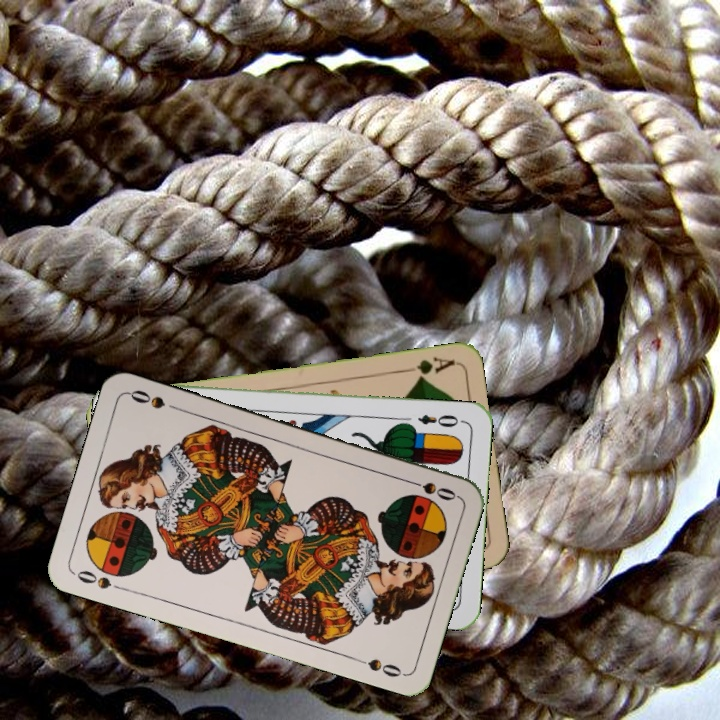EO: (414, 410, 466, 430)
GA: (398, 352, 457, 382)
SO: (402, 475, 460, 504), (70, 566, 128, 594)
